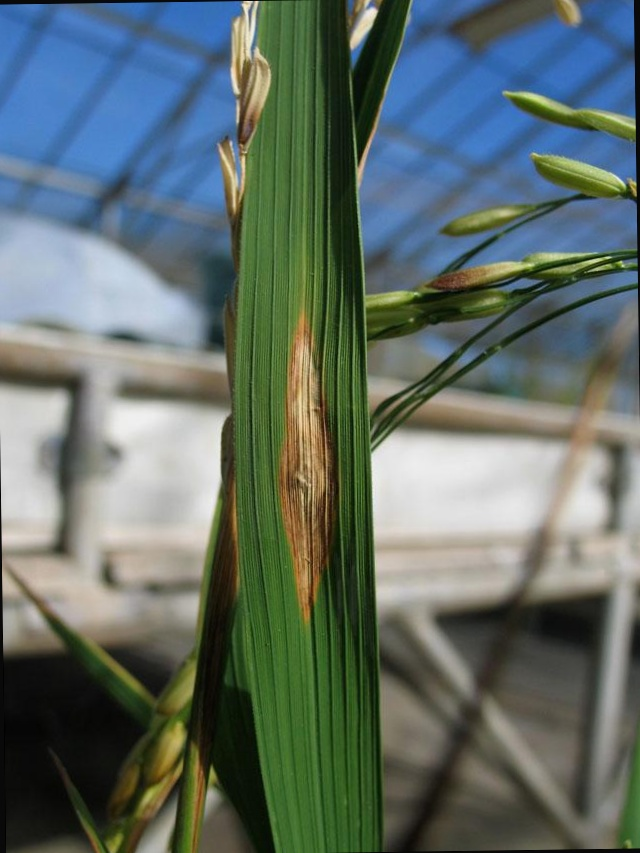Brown_Spot: (272, 295, 356, 647)
